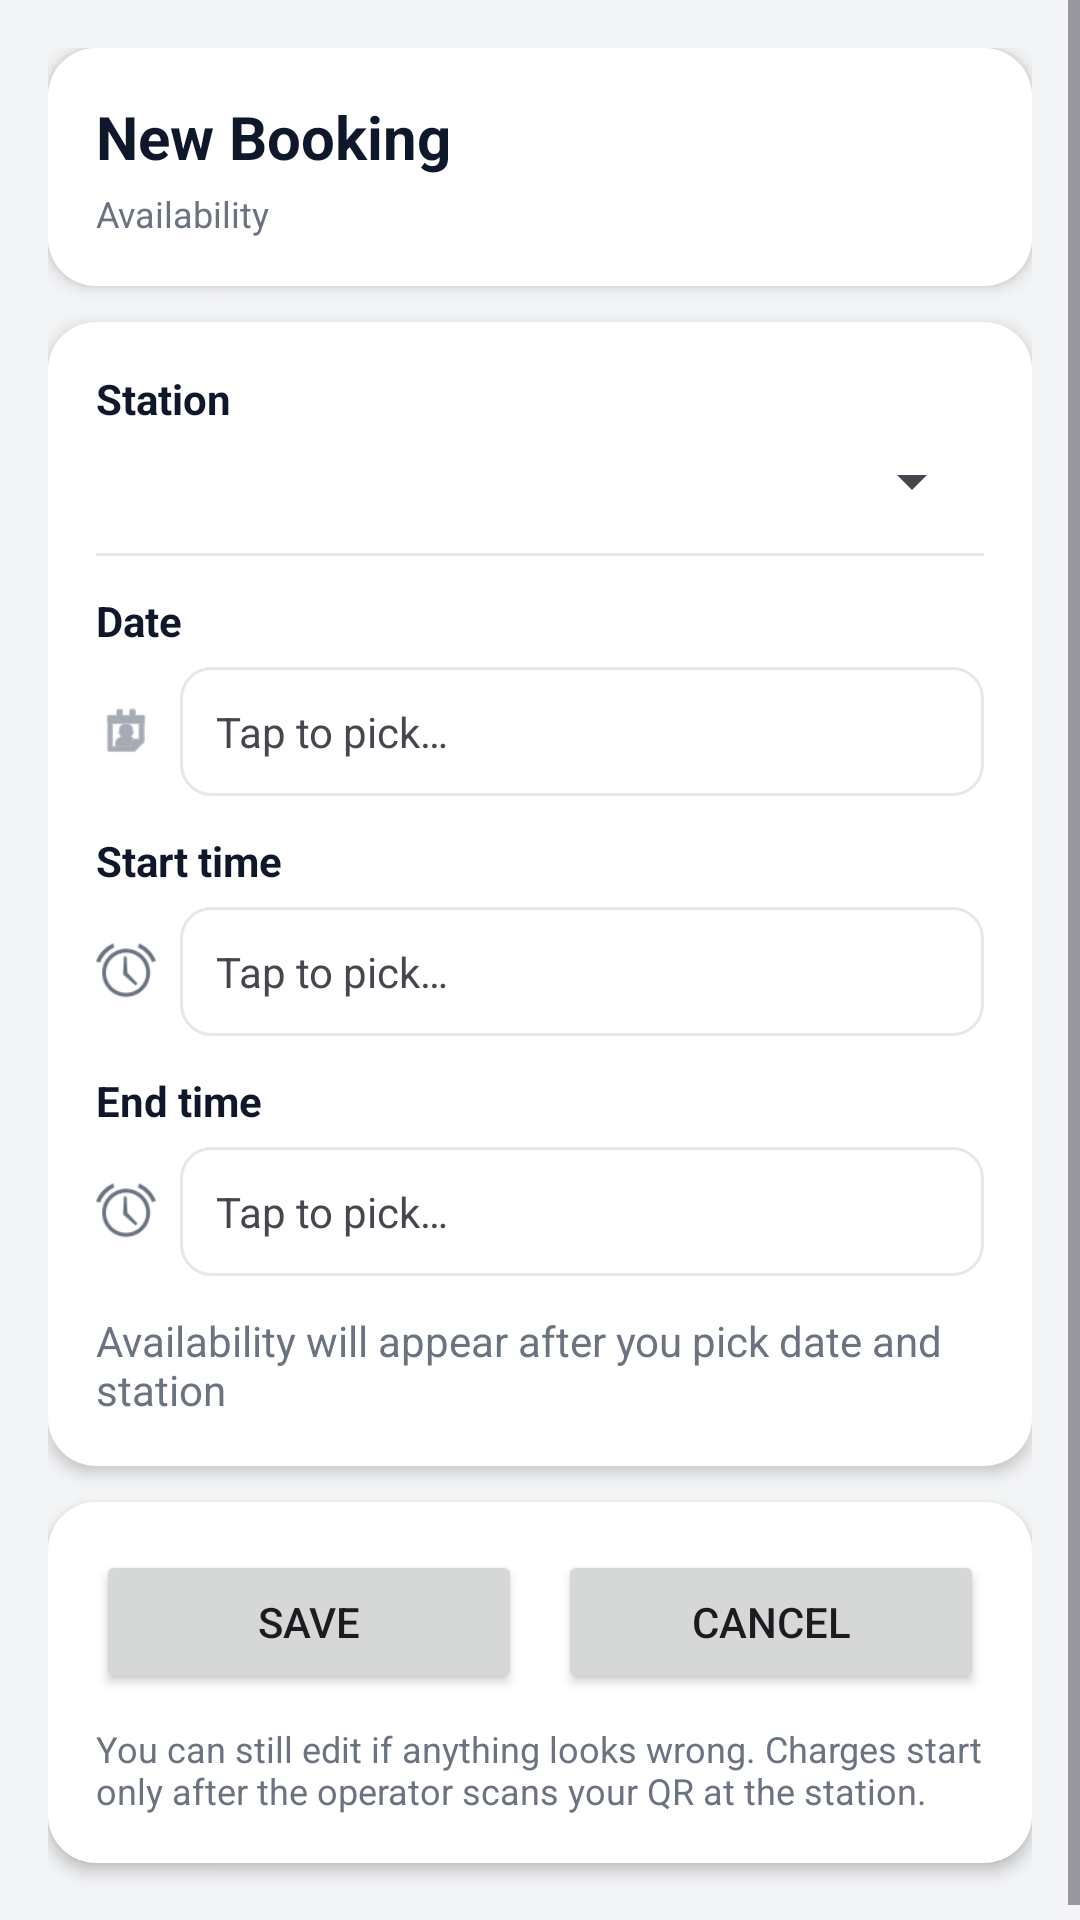

Named icons in this screenshot (1080w x 1920h) and their bounding boxes, (x1, y1, x2, y2):
calendar: (107, 708, 145, 752)
